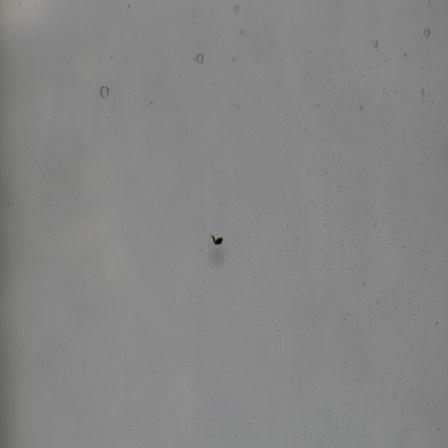Jentik-Nyamuk: (208, 232, 225, 248)
